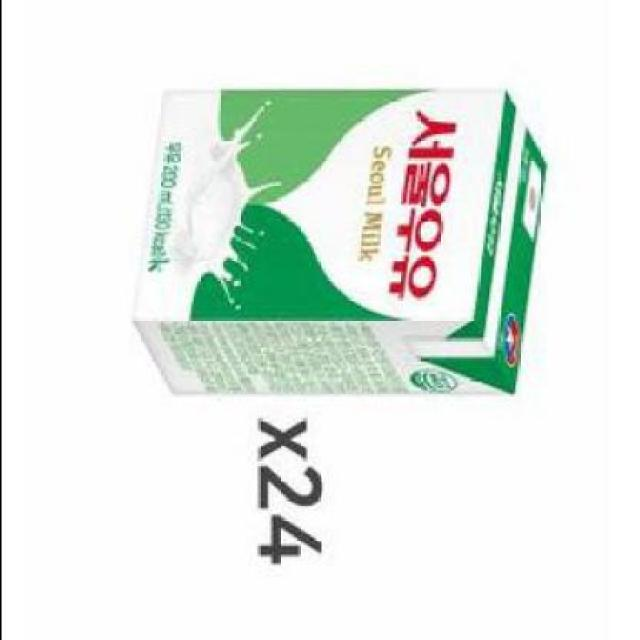tetra: (113, 69, 589, 414)
